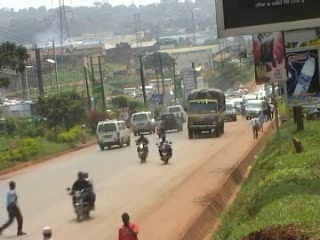Car: (158, 112, 184, 132)
Motorcycle: (62, 170, 98, 222), (155, 135, 175, 165), (134, 132, 152, 164)
